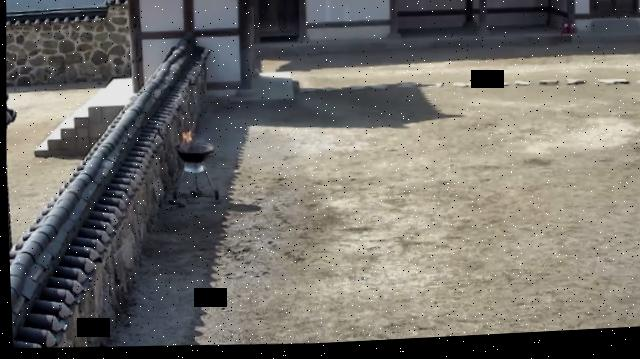fire: (177, 130, 193, 147)
smoke: (175, 115, 198, 154)
